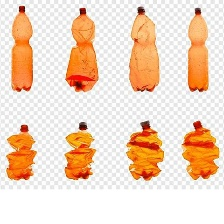bottle: (60, 3, 104, 96), (126, 3, 163, 94), (9, 1, 42, 98), (124, 115, 165, 184), (183, 4, 213, 98), (179, 115, 222, 180), (59, 116, 98, 183), (4, 120, 39, 183)
